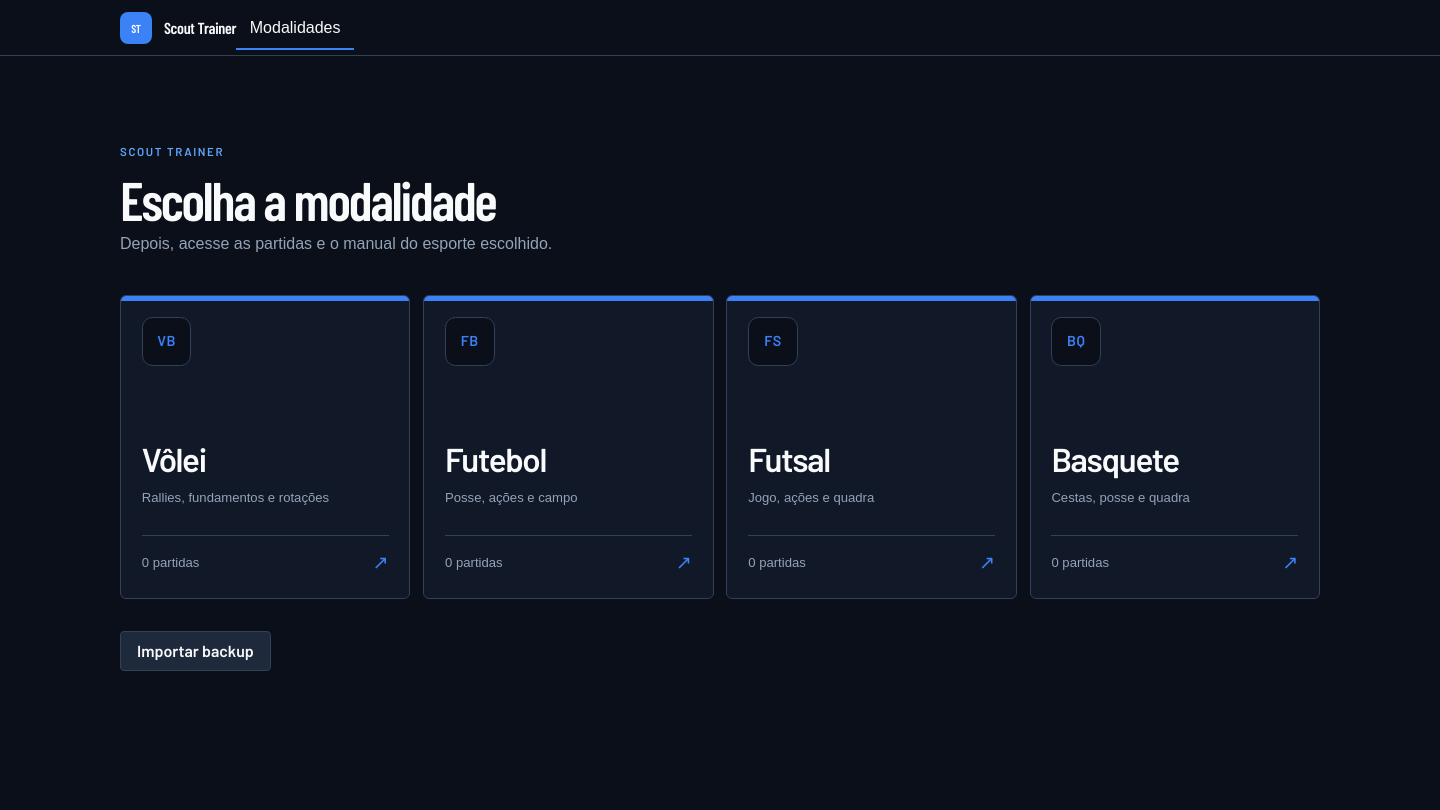
Test: usable MVP flow › creates, reopens, and routes football without volleyball state or controls
Click the button "FB Futebol Posse, ações e campo 0 partidas ↗": x=470, y=341 [423, 295, 714, 599]
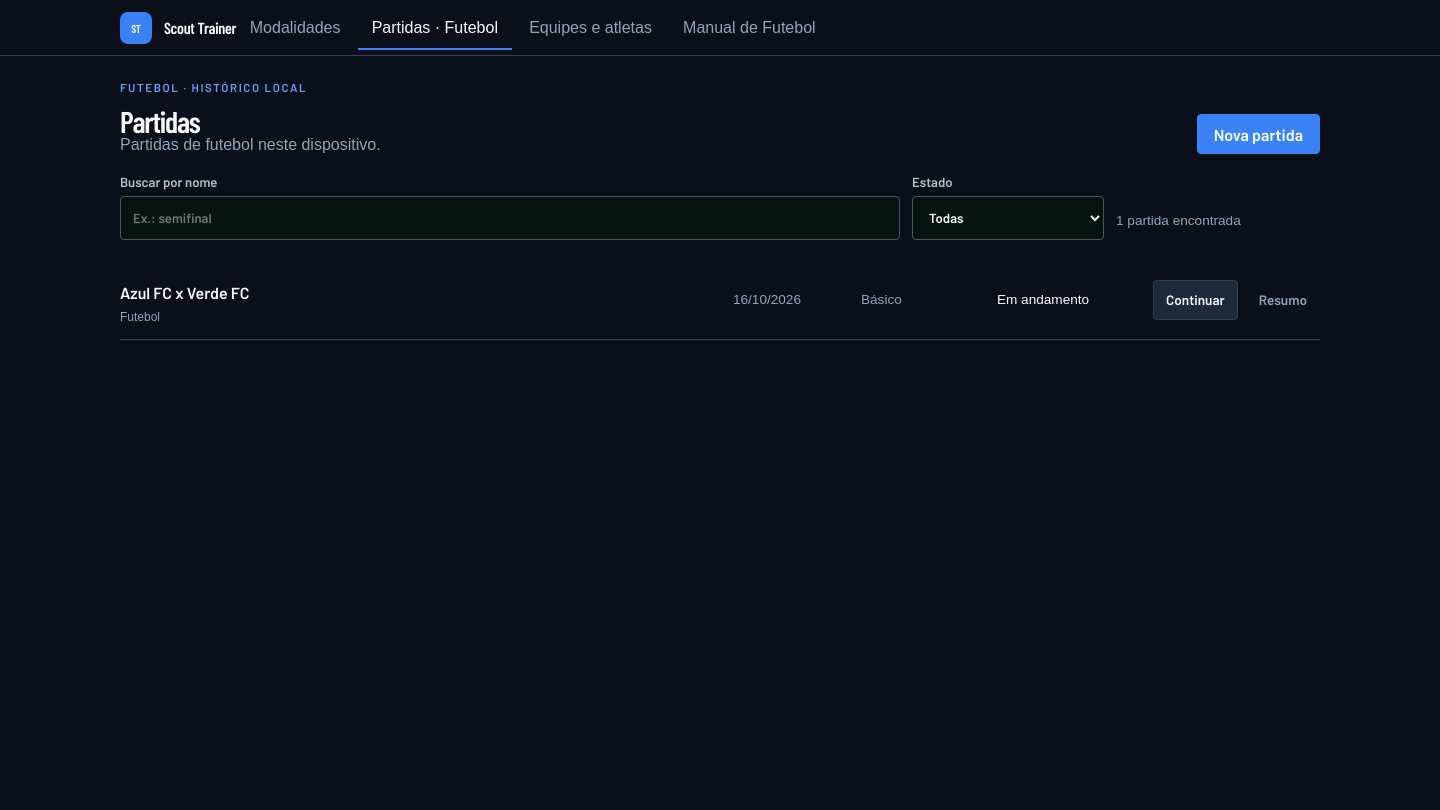
Expected: the heading "Partidas" is shown, [120, 103, 200, 139]
Click the button "Azul FC x Verde FC": x=185, y=293 [120, 275, 250, 310]
(page scrolled)
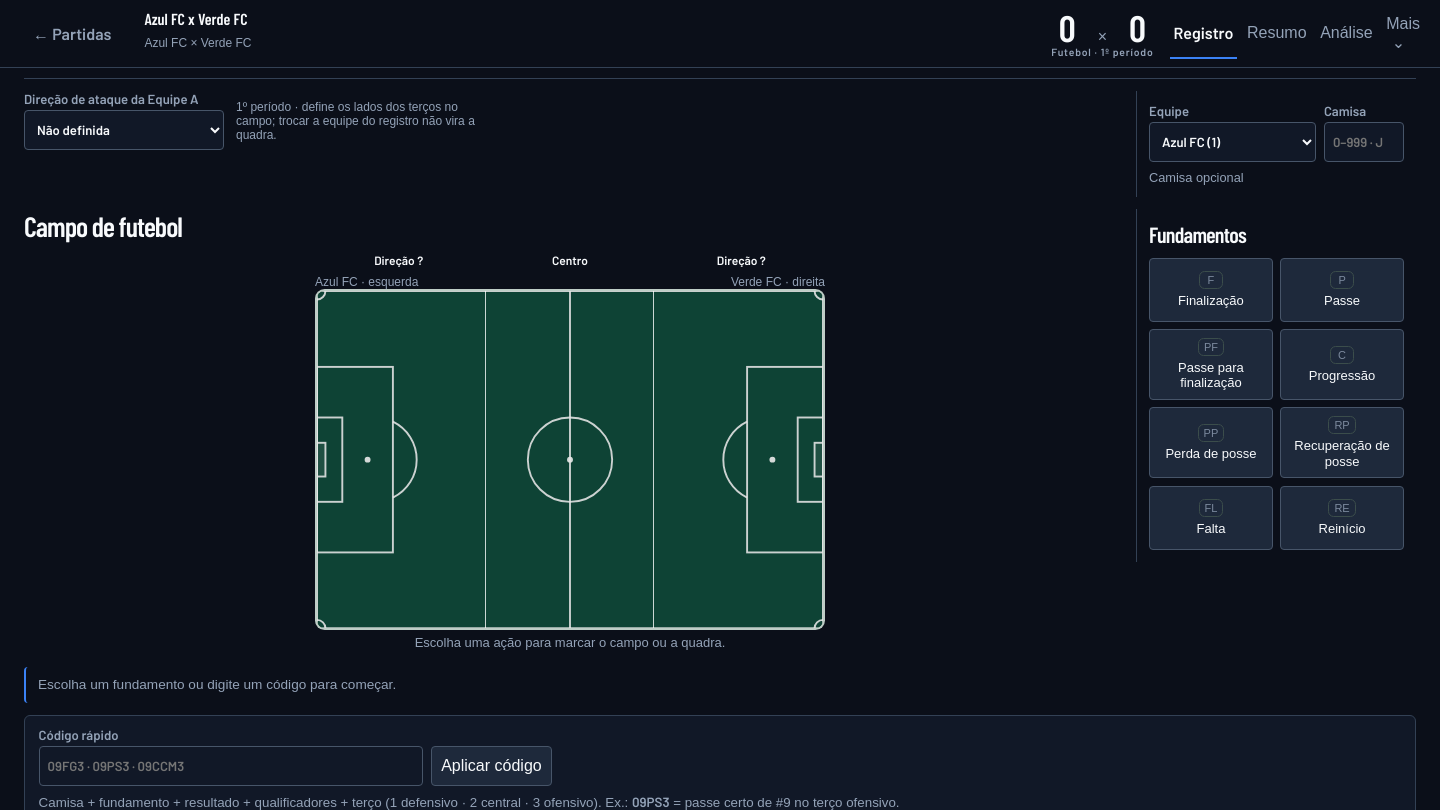
Expected: the element named "Placar da partida" shows "Azul FC x Verde FC", [144, 9, 248, 28]
